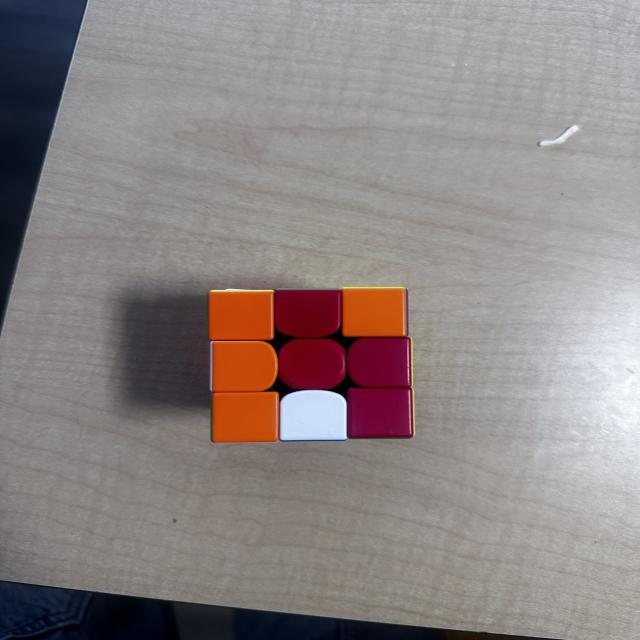sticker: (344, 385, 416, 441), (272, 287, 345, 341), (276, 338, 348, 392), (278, 389, 349, 442), (210, 341, 280, 394), (211, 391, 281, 444), (207, 290, 276, 342), (346, 336, 413, 389), (340, 287, 408, 339)
